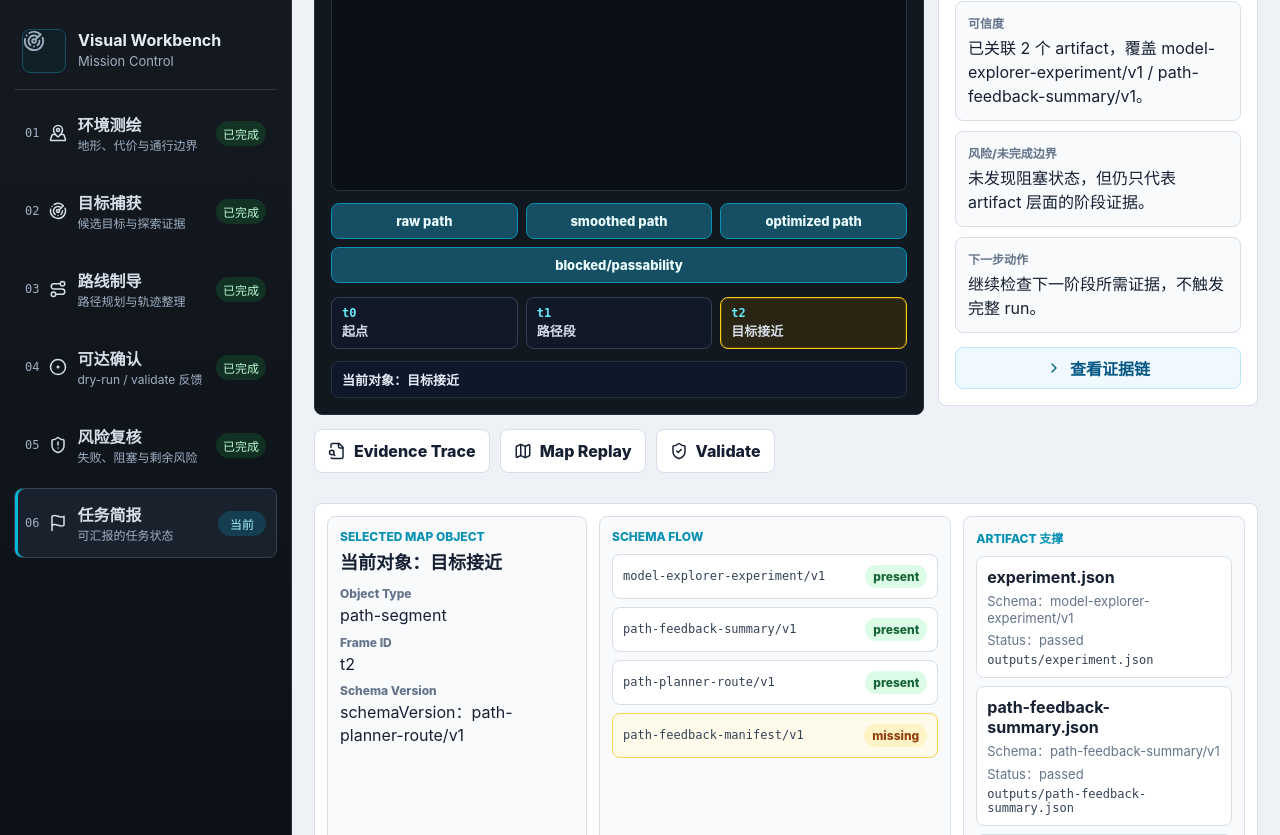
Test case: App › stage tools expose H1-specific evidence, replay, and validate panels
(page scrolled)
Click the button "Evidence Trace".
click(402, 451)  # box x1=314 y1=429 x2=490 y2=473
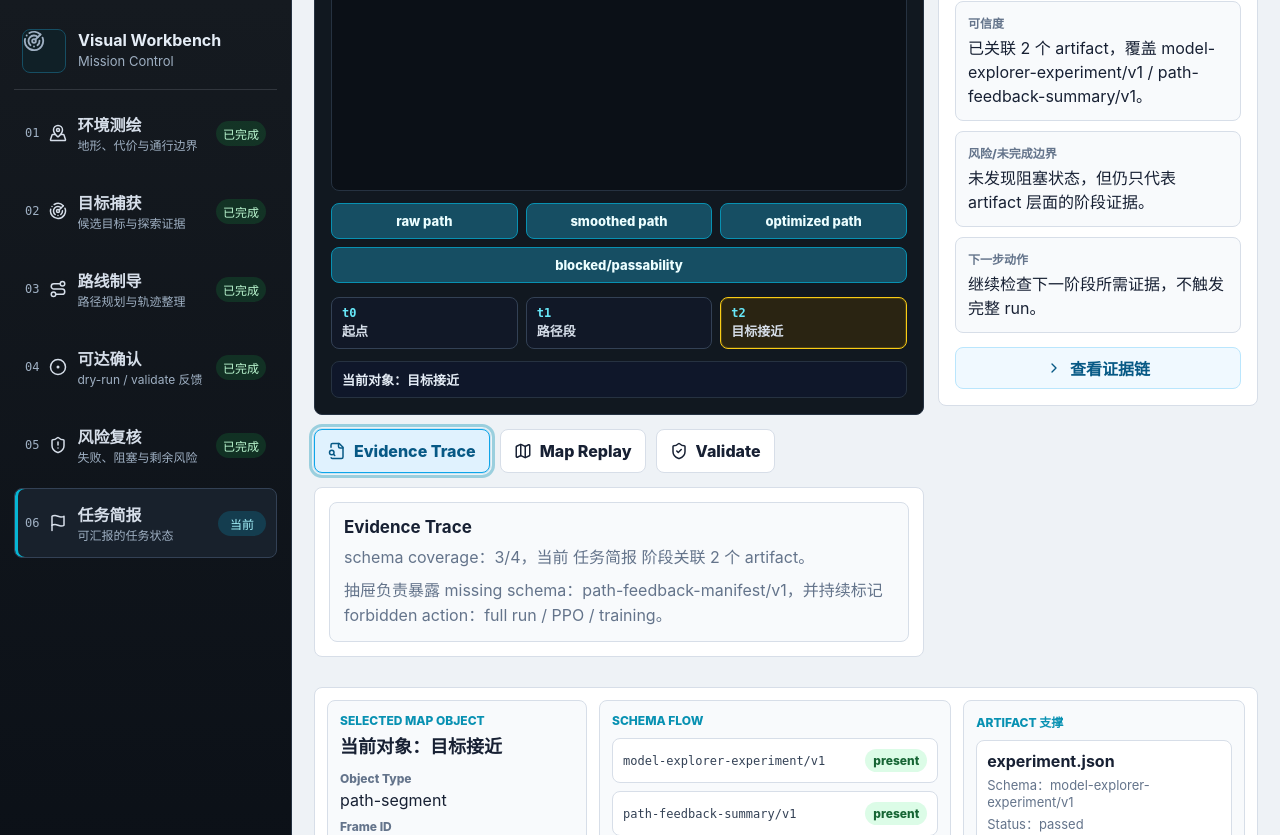
Check: the heading "Evidence Trace" is shown, box x1=344 y1=517 x2=472 y2=537
Check: the text "schema coverage：3/4，当前 任务简报 阶段关联 2 个 artifact。" is shown, box x1=344 y1=545 x2=894 y2=570
Click the button "Map Replay".
click(573, 451)  # box x1=500 y1=429 x2=646 y2=473
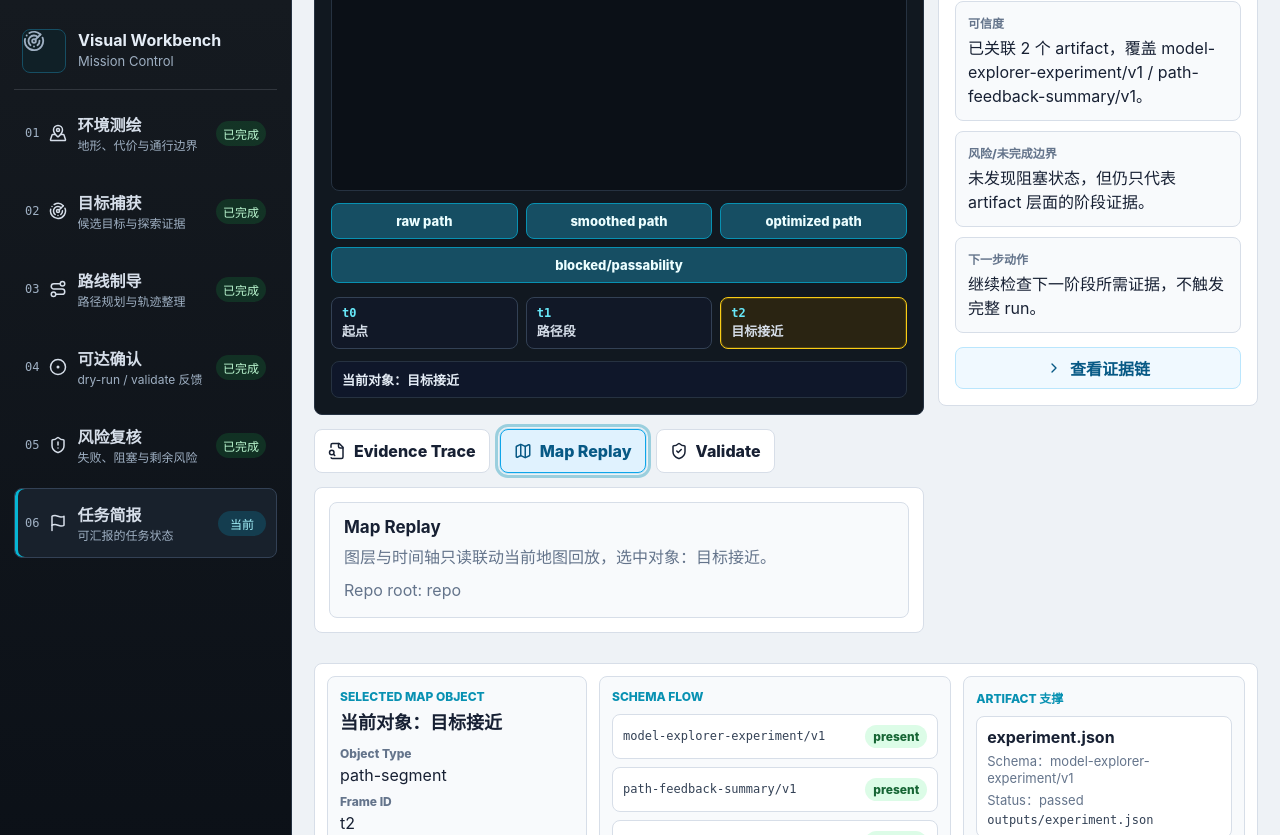
Check: the heading "Map Replay" is shown, box x1=344 y1=517 x2=441 y2=537
Check: the text "图层与时间轴只读联动当前地图回放，选中对象：目标接近。" is shown, box x1=344 y1=547 x2=776 y2=567
Click the button "Validate".
click(715, 451)  # box x1=656 y1=429 x2=775 y2=473
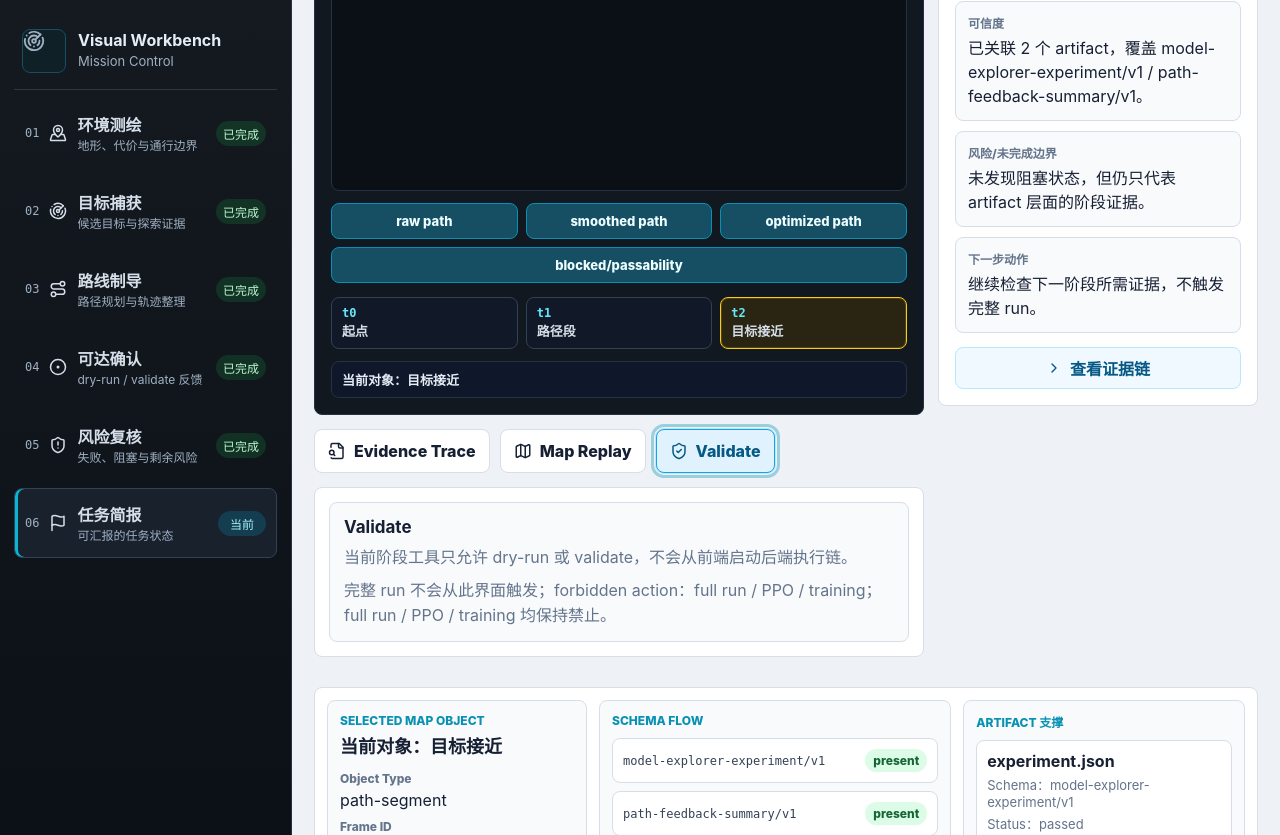
Check: the heading "Validate" is shown, box x1=344 y1=517 x2=412 y2=537
Check: the text "当前阶段工具只允许 dry-run 或 validate，不会从前端启动后端执行链。" is shown, box x1=344 y1=545 x2=894 y2=570
